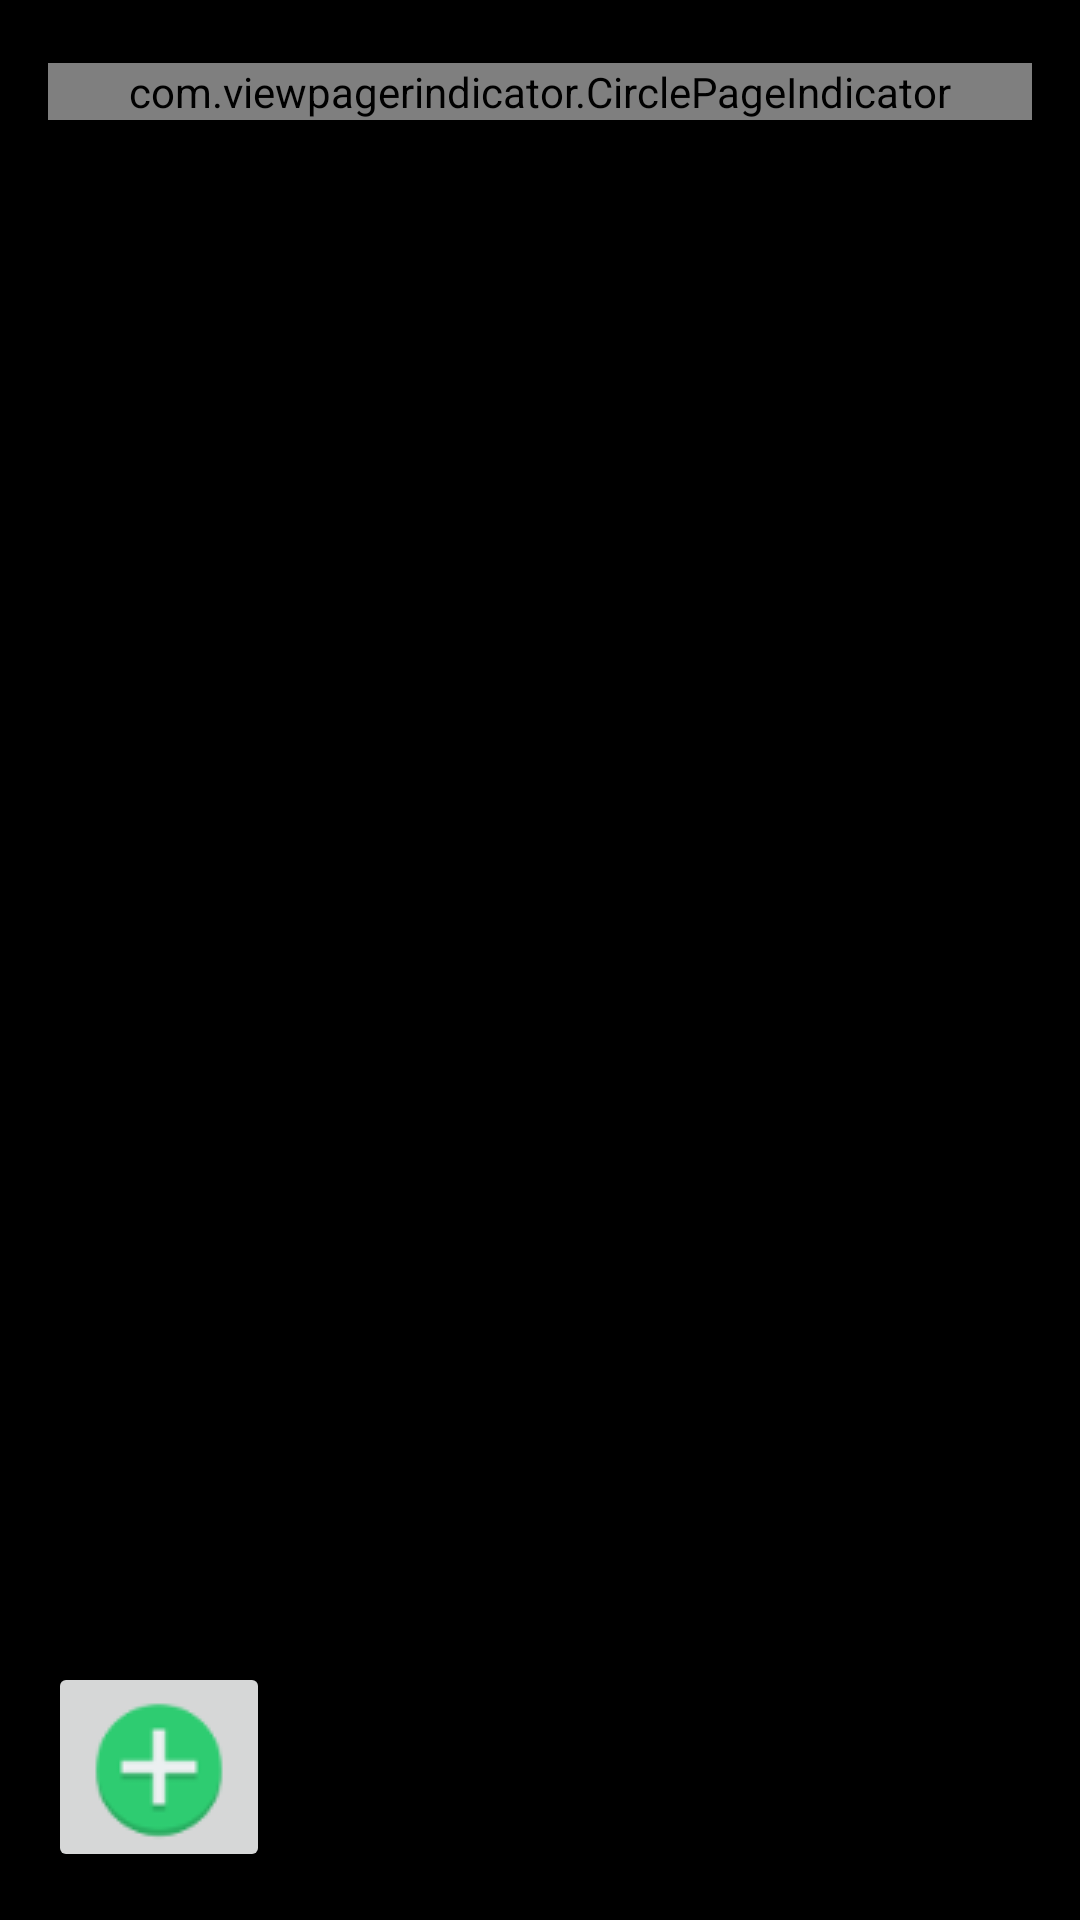

Named icons in this screenshot (1080w x 1920h) and their bounding boxes, region(x1, y1, x2, y2):
sign add: region(60, 1680, 258, 1854)
